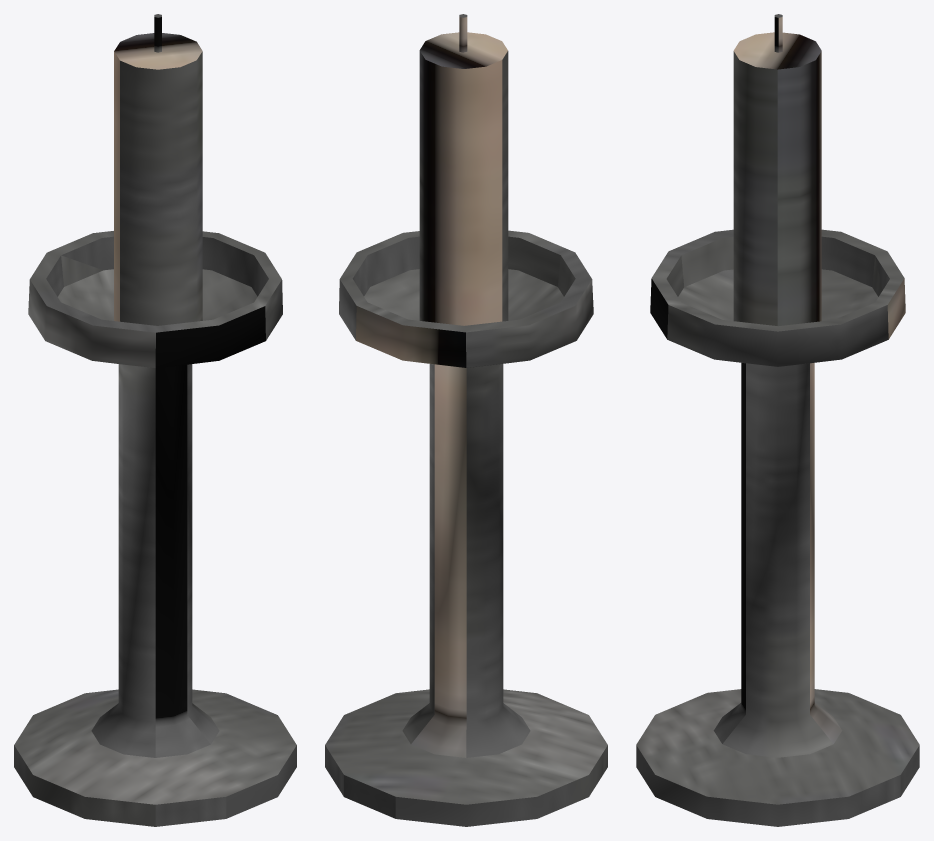
Rendered from objects_candle_1.glb.
3 renders of one model, left to right at view 1: azimuth 30°, elevation 25°; view 2: azimuth 150°, elevation 25°; view 3: azimuth 270°, elevation 25°, orthographic.
Parts seen in each view (by area): view 1: candle_1; view 2: candle_1; view 3: candle_1.
Boxes of the visible parts, bbox=[...] form: candle_1: bbox=[14, 14, 296, 826]; candle_1: bbox=[325, 14, 607, 826]; candle_1: bbox=[636, 14, 919, 826].
Bounding box in the file's own units: 0.966 × 2.83 × 0.966.
Materials: 1 (1 with a texture image).
